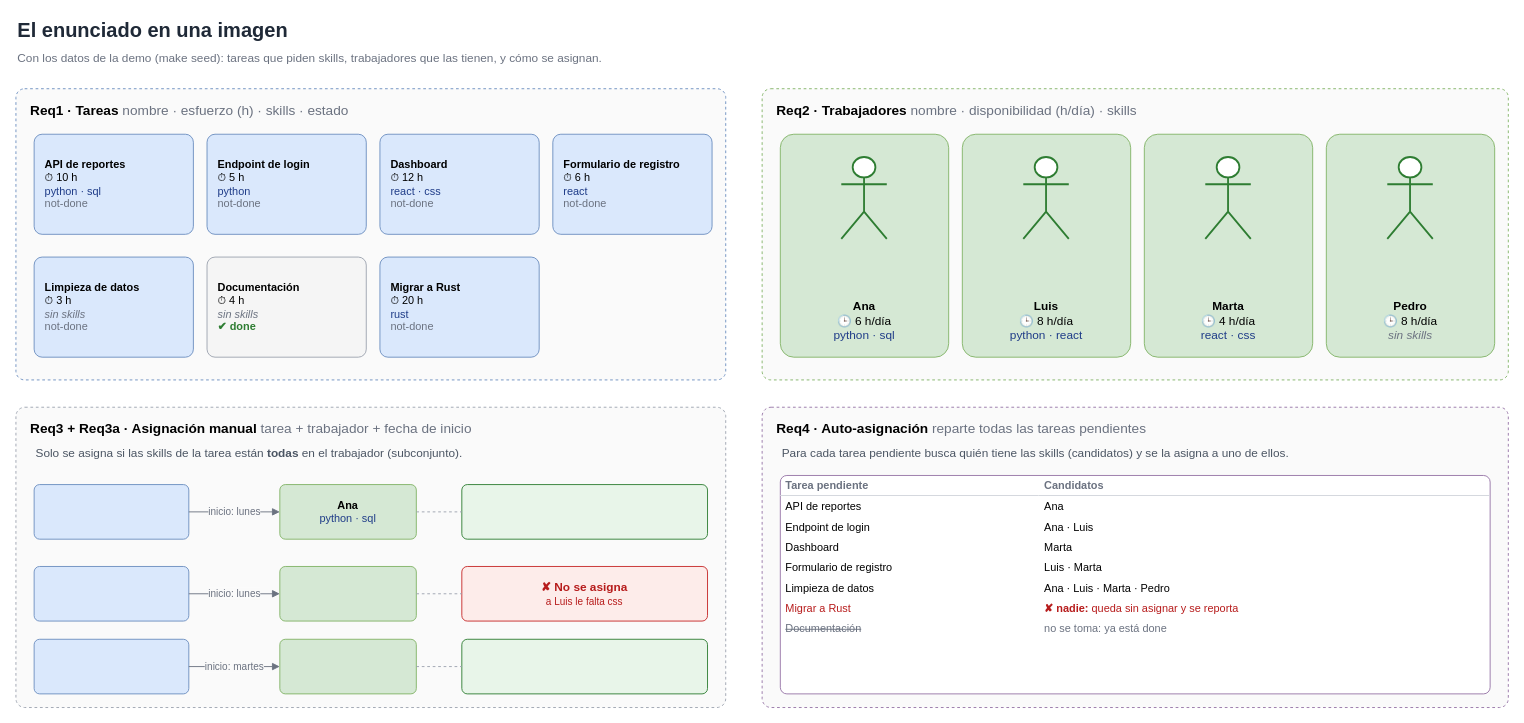
This 1524x723 diagram has some shape labels left out. Each missing label, with the centre of its shape:
"API de reportes python · sql" goes at (x=111, y=511).
"Dashboard react · css" goes at (x=111, y=593).
"Limpieza de datos sin skills" goes at (x=111, y=666).
"Luis python · react" goes at (x=347, y=593).
"Pedro sin skills" goes at (x=347, y=666).
"✔ Se asigna Ana tiene python y sql" goes at (x=584, y=511).
"✔ Se asigna la tarea no pide skills: la puede tomar cualquiera" goes at (x=584, y=666).
